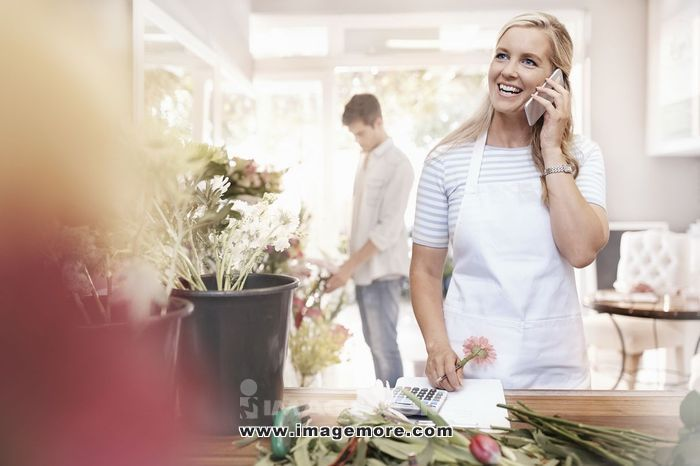phone: (528, 66, 567, 127)
talk: (489, 42, 576, 153)
